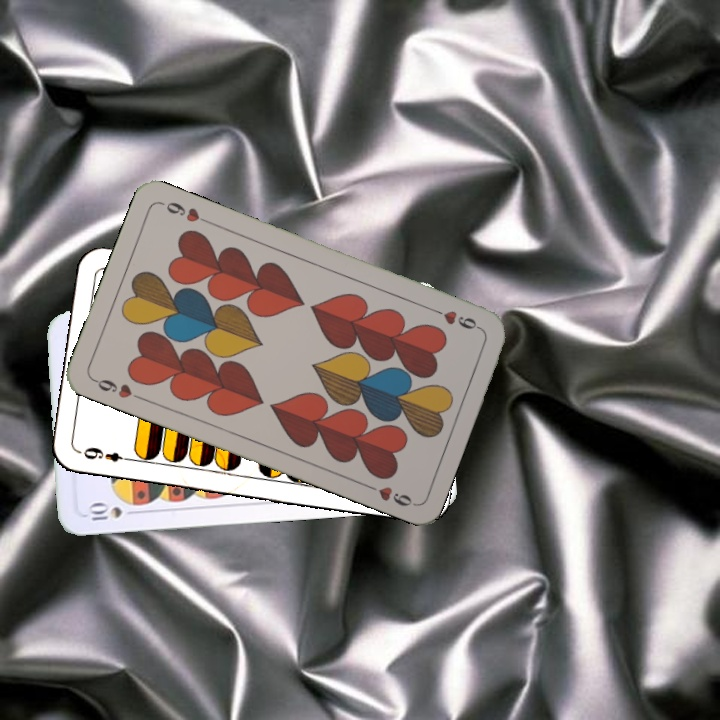E9: (79, 443, 136, 465)
H9: (89, 374, 146, 403), (427, 304, 484, 333)
S10: (84, 500, 141, 523)
